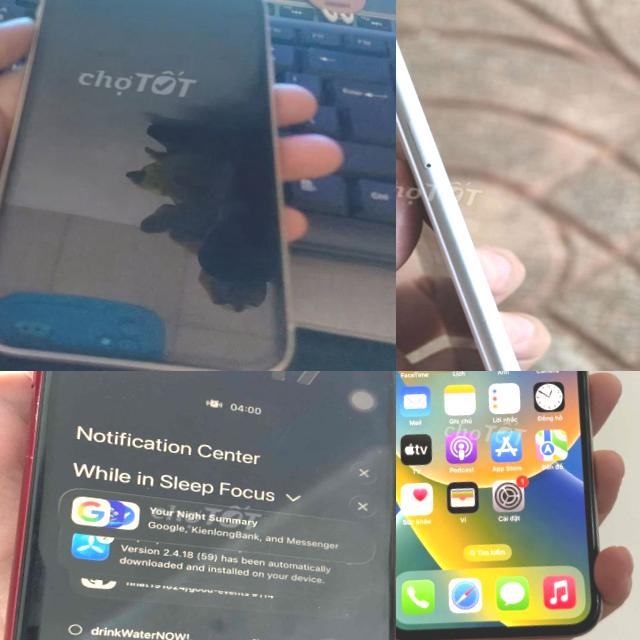scratch: (27, 392, 45, 422), (18, 447, 38, 465)
